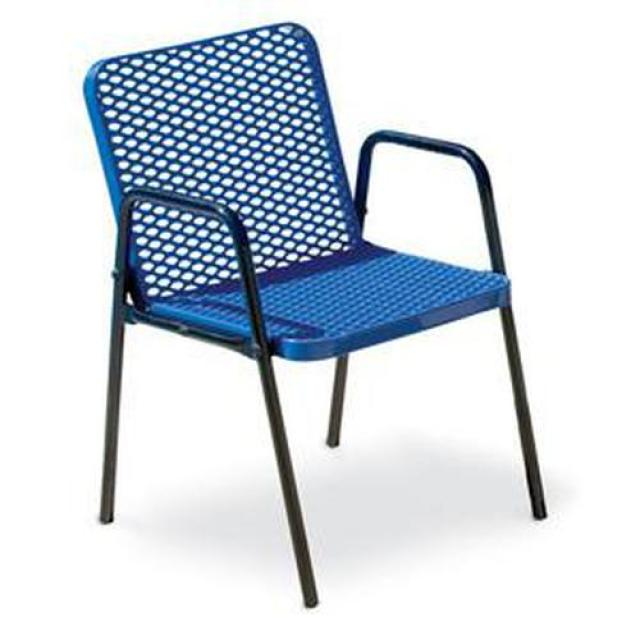chair: (88, 23, 548, 609)
